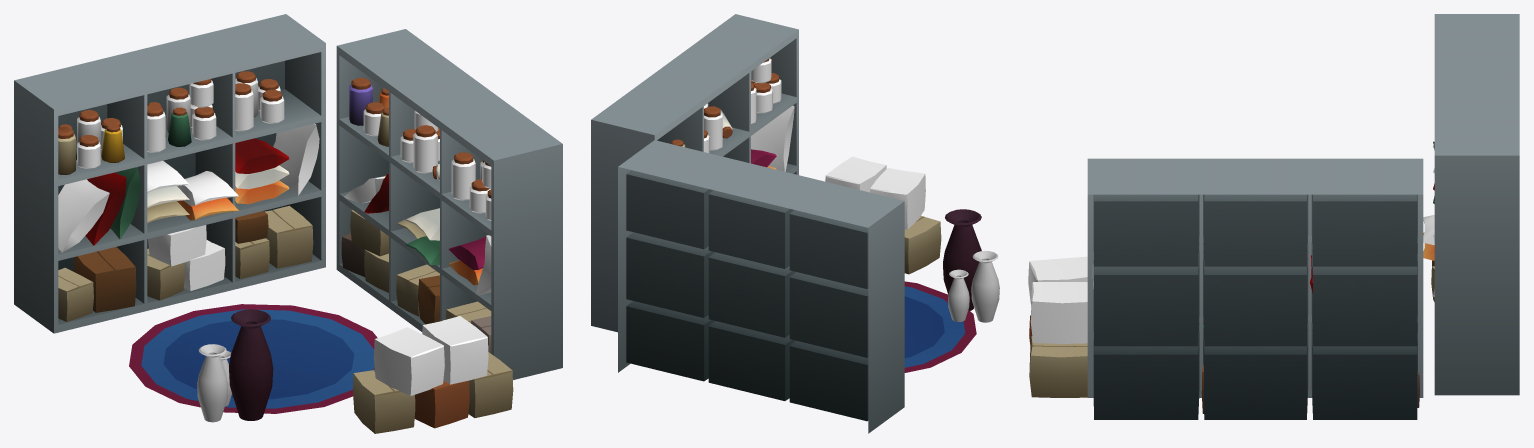
File: Storage.fbx
The picture shows the model from 3 angles, left to right: view 1: azimuth 30°, elevation 25°; view 2: azimuth 150°, elevation 25°; view 3: azimuth 270°, elevation 25°; orthographic projection. The views are drawn at different scales.
Parts seen in each view (by area): view 1: Shelf01, Shelf02, Carpet, Boxes, Vessels; view 2: Shelf01, Shelf02, Boxes, Vessels, Carpet; view 3: Shelf02, Shelf01, Boxes.
Boxes of the visible parts, x1,y1,x2,y2 form: Shelf01: [14, 14, 325, 333]; Shelf02: [336, 29, 562, 379]; Carpet: [129, 304, 377, 413]; Boxes: [353, 316, 513, 433]; Vessels: [197, 309, 273, 422]; Shelf01: [618, 140, 904, 433]; Shelf02: [591, 14, 798, 332]; Boxes: [825, 156, 941, 274]; Vessels: [943, 209, 999, 322]; Carpet: [904, 281, 976, 372]; Shelf02: [1087, 158, 1423, 419]; Shelf01: [1423, 14, 1519, 395]; Boxes: [1028, 256, 1087, 397].
Size of the model in its own units: 554 by 352 by 637.
